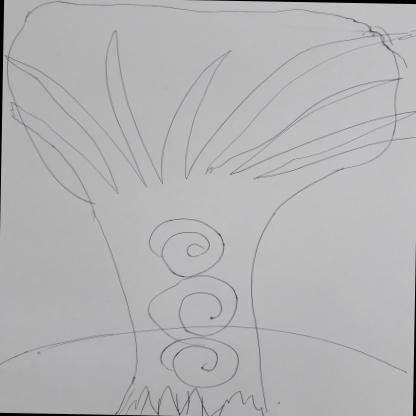branch_sharp: (3, 26, 416, 203)
crown_mushroom: (2, 0, 403, 219)
knot: (138, 274, 244, 338), (141, 217, 229, 277), (157, 338, 244, 387)
root_upside: (84, 319, 303, 416)
trunk_reflex: (87, 216, 274, 308)
